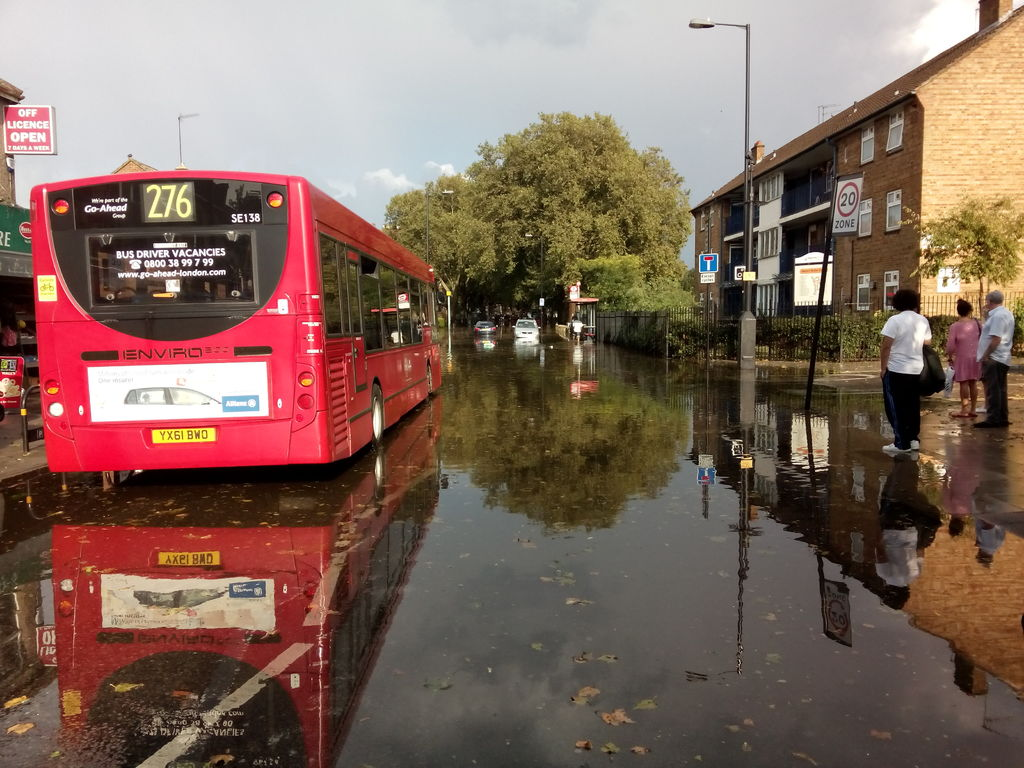Bus: (33, 163, 442, 474)
